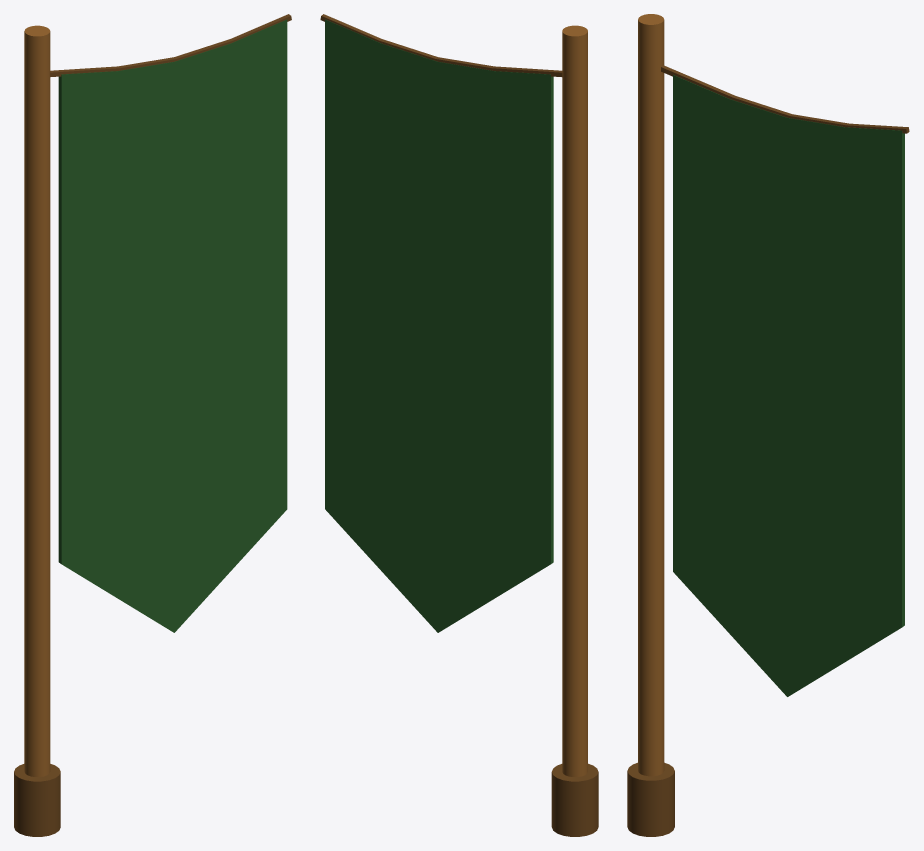
The model's file is Proxy_Flag_A01.fbx.
3 renders of one model, left to right at view 1: azimuth 30°, elevation 25°; view 2: azimuth 150°, elevation 25°; view 3: azimuth 330°, elevation 25°, orthographic.
Parts seen in each view (by area): view 1: Proxy_Flag_A01; view 2: Proxy_Flag_A01; view 3: Proxy_Flag_A01.
Boxes of the visible parts, x1=… form: Proxy_Flag_A01: x1=14, y1=14, x2=291, y2=836; Proxy_Flag_A01: x1=320, y1=14, x2=598, y2=836; Proxy_Flag_A01: x1=627, y1=14, x2=909, y2=836.
Size of the model in its own units: 576 by 85.36 by 1604.
